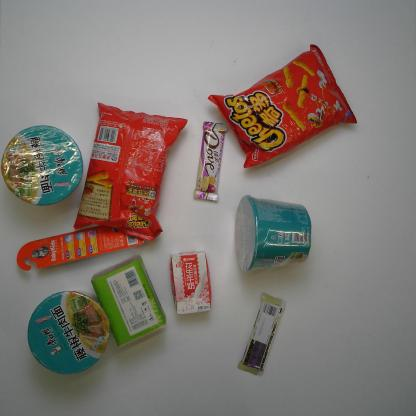Chocolate: (236, 292, 289, 378), (192, 119, 228, 202)
Instant Noodles: (23, 290, 114, 377), (1, 124, 84, 206), (232, 194, 312, 273)
Milk: (169, 250, 214, 318)
Personal Hygiene: (16, 216, 150, 272)
Puffed Food: (206, 43, 357, 166), (73, 101, 188, 242)
Tissue: (89, 254, 170, 352)
